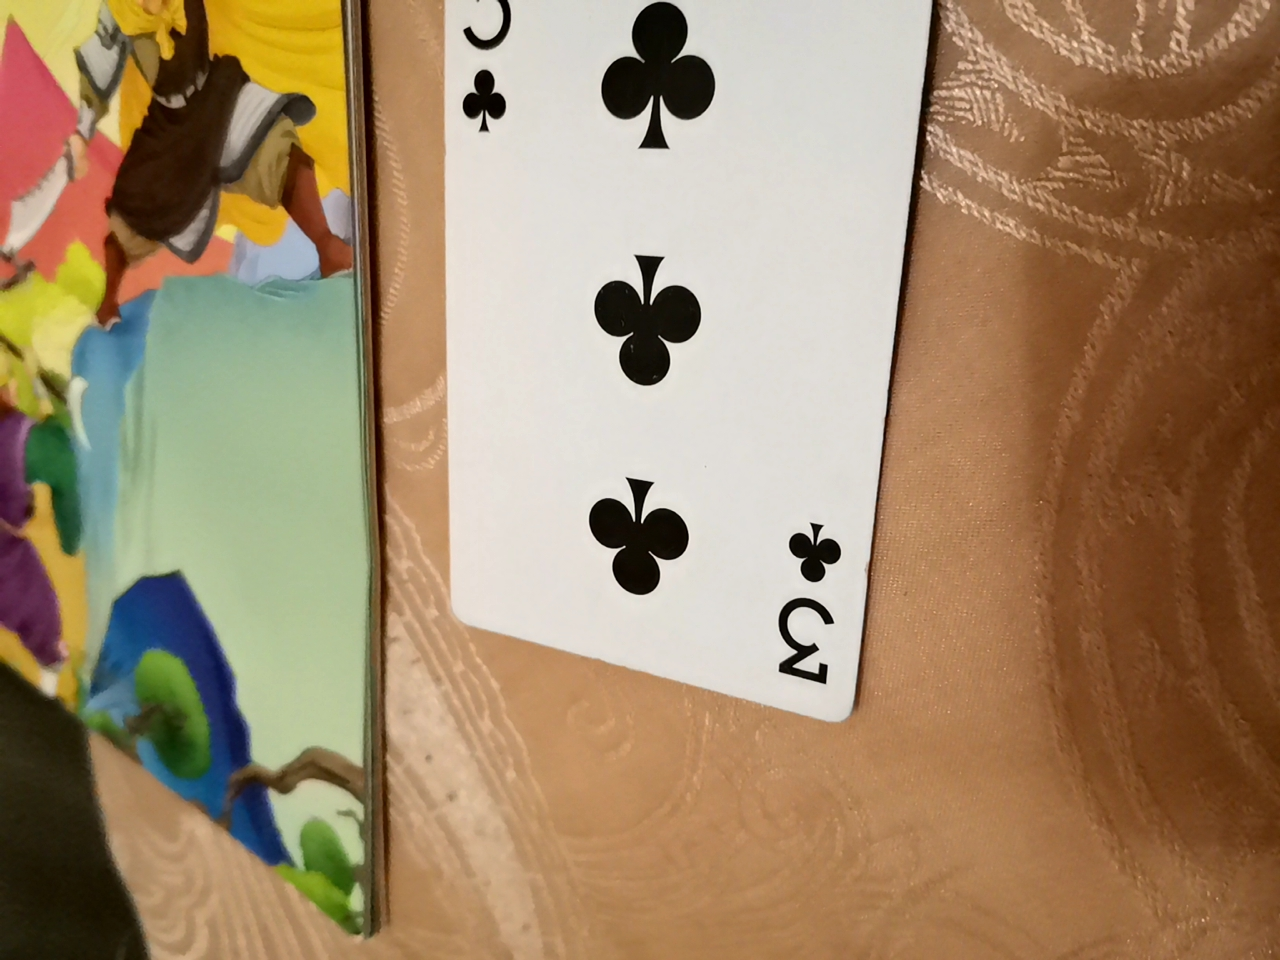mh 3: (412, 0, 949, 741)
